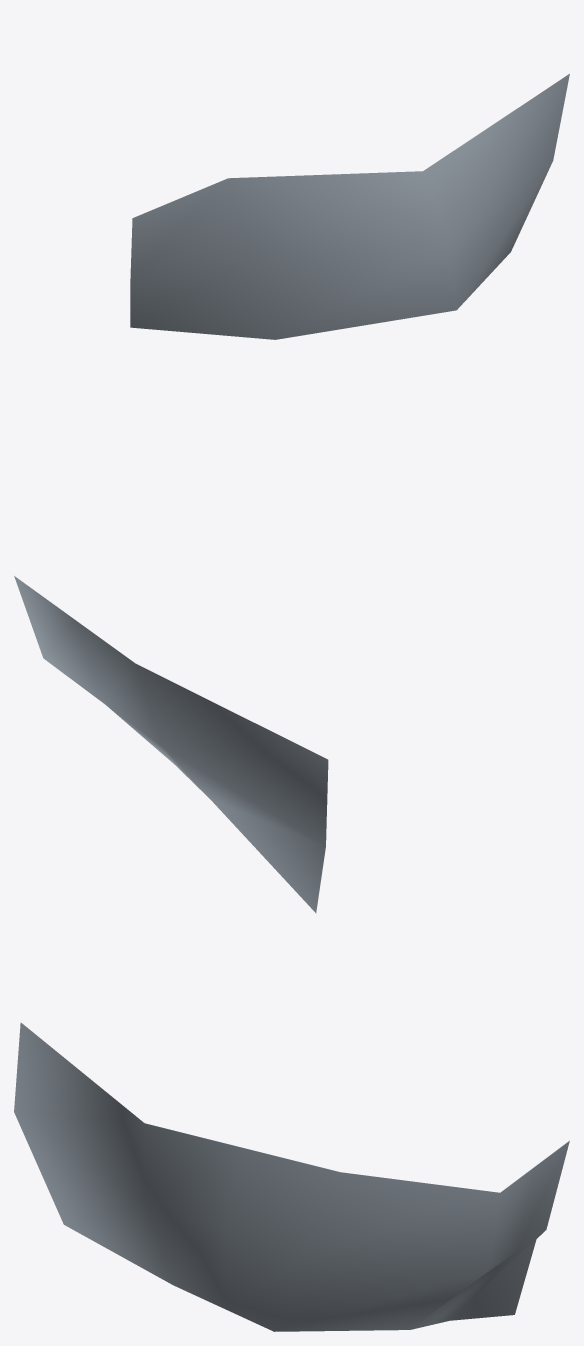
The model's file is annular-ligament-of-radius-l.glb.
The picture shows the model from 3 angles, top to bottom: view 1: azimuth 30°, elevation 25°; view 2: azimuth 150°, elevation 25°; view 3: azimuth 270°, elevation 25°; orthographic projection. The views are drawn at different scales.
Visible parts, largest first — view 1: Annular ligament of radius.l; view 2: Annular ligament of radius.l; view 3: Annular ligament of radius.l.
Boxes of the visible parts, x1,y1,x2,y2 form: Annular ligament of radius.l: [130, 73, 569, 339]; Annular ligament of radius.l: [14, 576, 328, 913]; Annular ligament of radius.l: [14, 1022, 569, 1331].
Size of the model in its own units: 0.0251 by 0.0176 by 0.0244.
